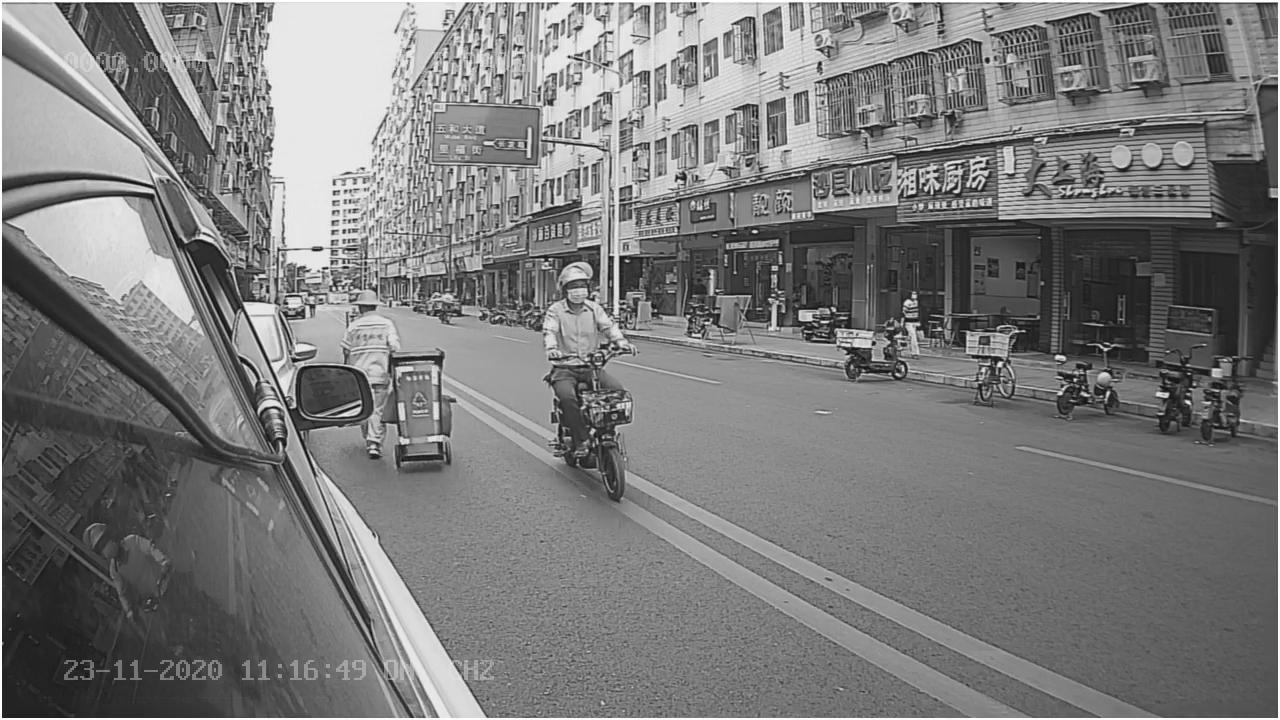person: (539, 259, 631, 344)
